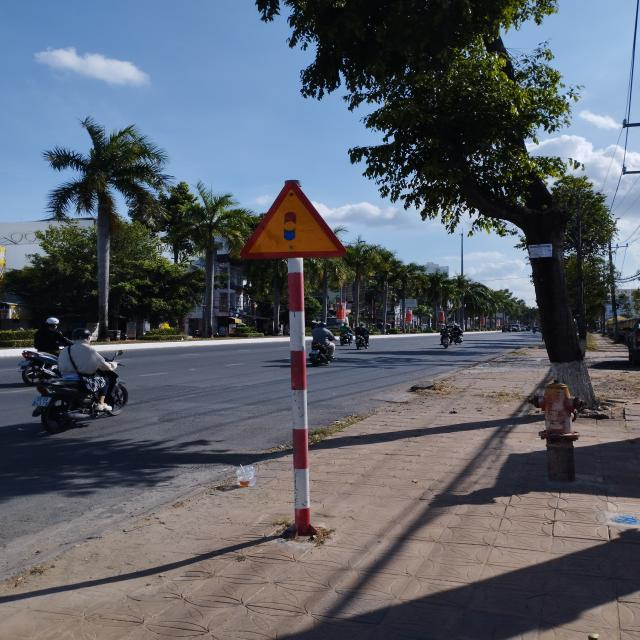Duong_Co_Go_Giam_Toc: (237, 179, 347, 259)
